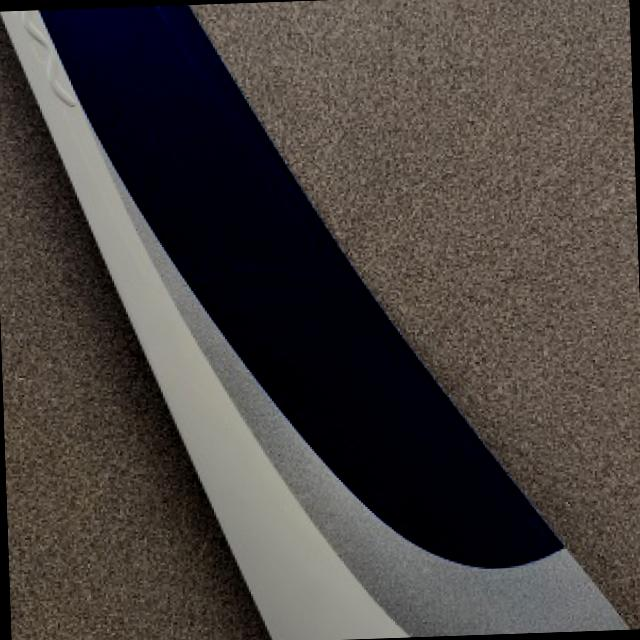healthy: (248, 0, 640, 627)
